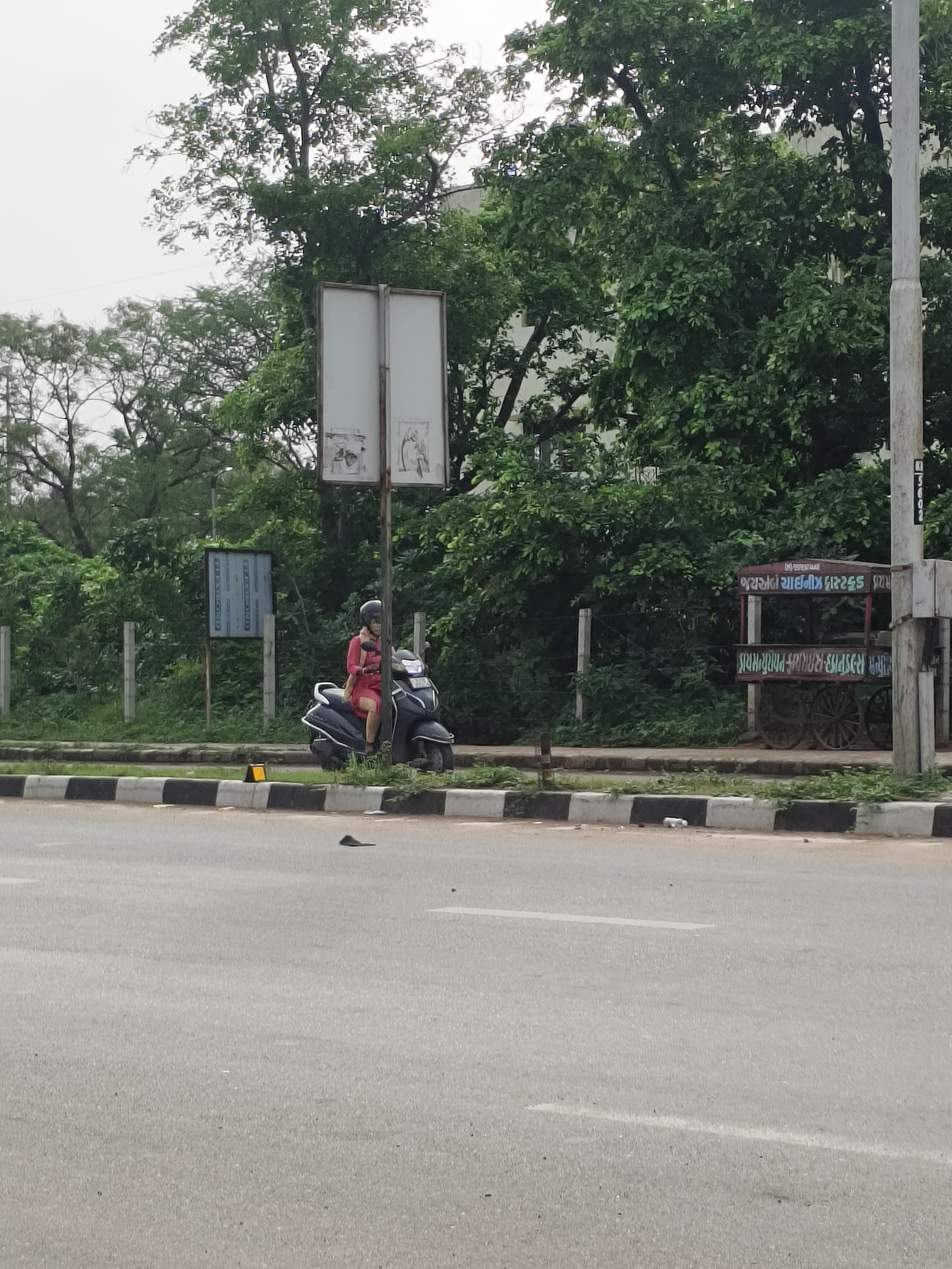BikeWithRider: (295, 593, 461, 781)
Helmet: (355, 595, 388, 634)
